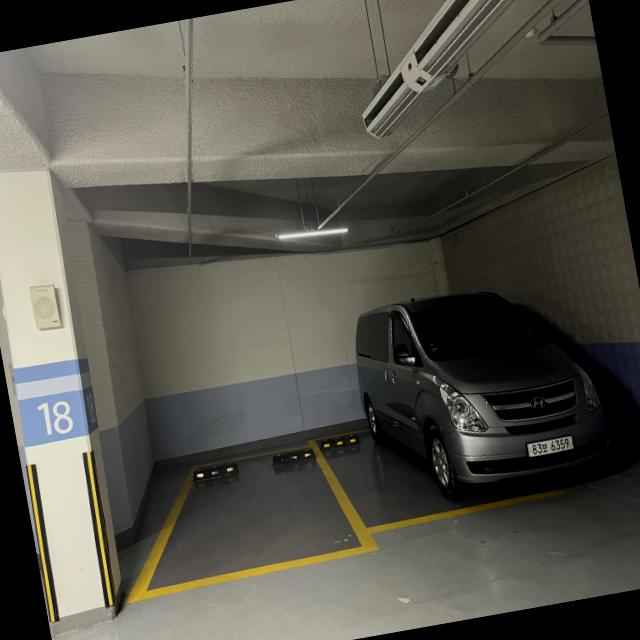car: (324, 257, 622, 533)
free: (110, 430, 373, 596)
